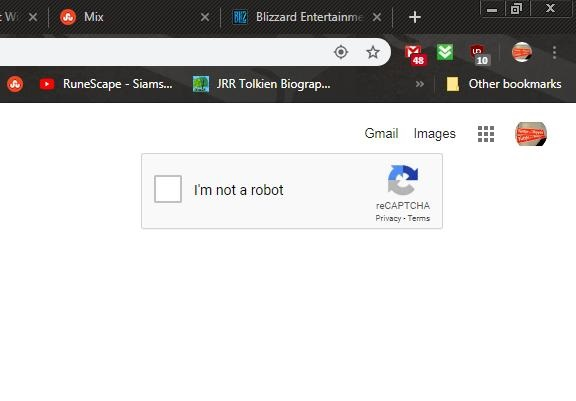captcha: (154, 175, 285, 203)
